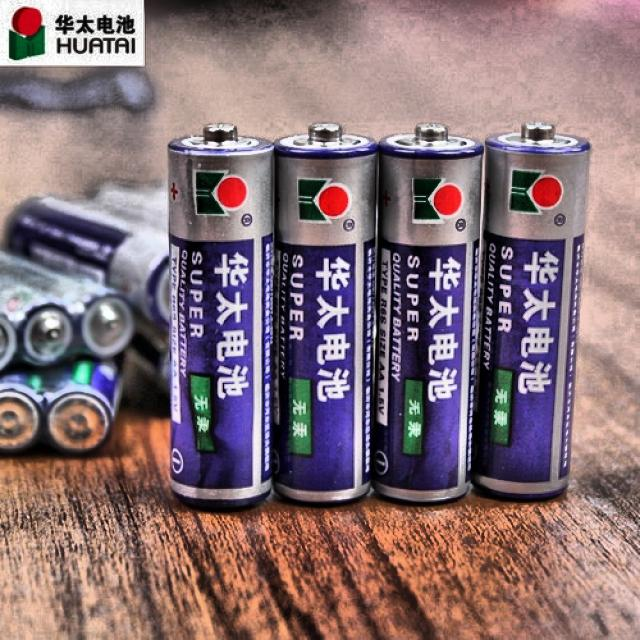Non-Valuable Waste - Batteries: (472, 124, 589, 498), (372, 125, 482, 502), (169, 125, 274, 508), (274, 125, 378, 503)
